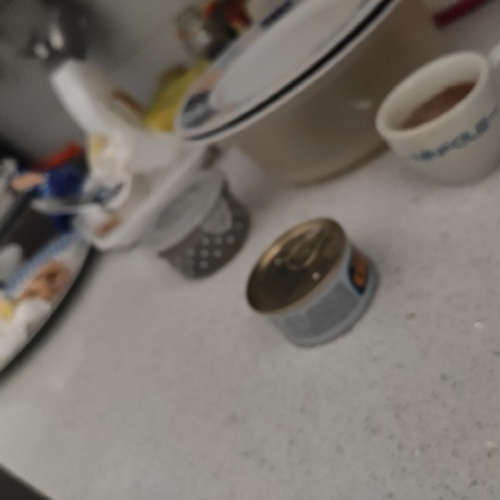tonno: (237, 214, 387, 352)
